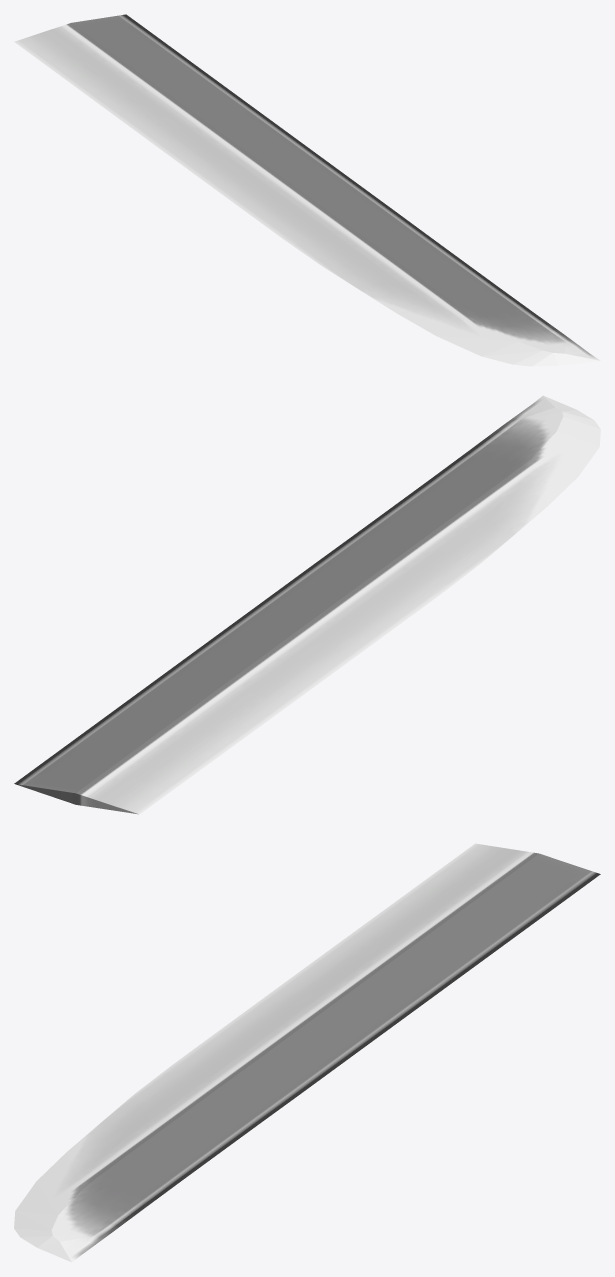
Rendered from Mei_Weapon_Skill_DashSlash_Blade_Big.fbx.
The picture shows the model from 3 angles, top to bottom: view 1: azimuth 30°, elevation 25°; view 2: azimuth 150°, elevation 25°; view 3: azimuth 330°, elevation 25°; orthographic projection. The views are drawn at different scales.
Parts seen in each view (by area): view 1: Big_Sword; view 2: Big_Sword; view 3: Big_Sword.
Boxes of the visible parts, <box> form: Big_Sword: <box>14,14,600,366</box>; Big_Sword: <box>14,395,600,814</box>; Big_Sword: <box>14,843,600,1262</box>.
Size of the model in its own units: 0.6789 by 0.0588 by 4.9.
Materials: 1 (1 with a texture image).
